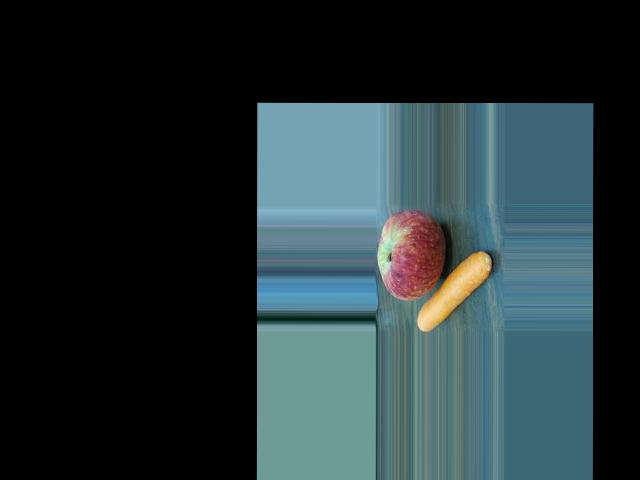carrot: (416, 251, 493, 332)
